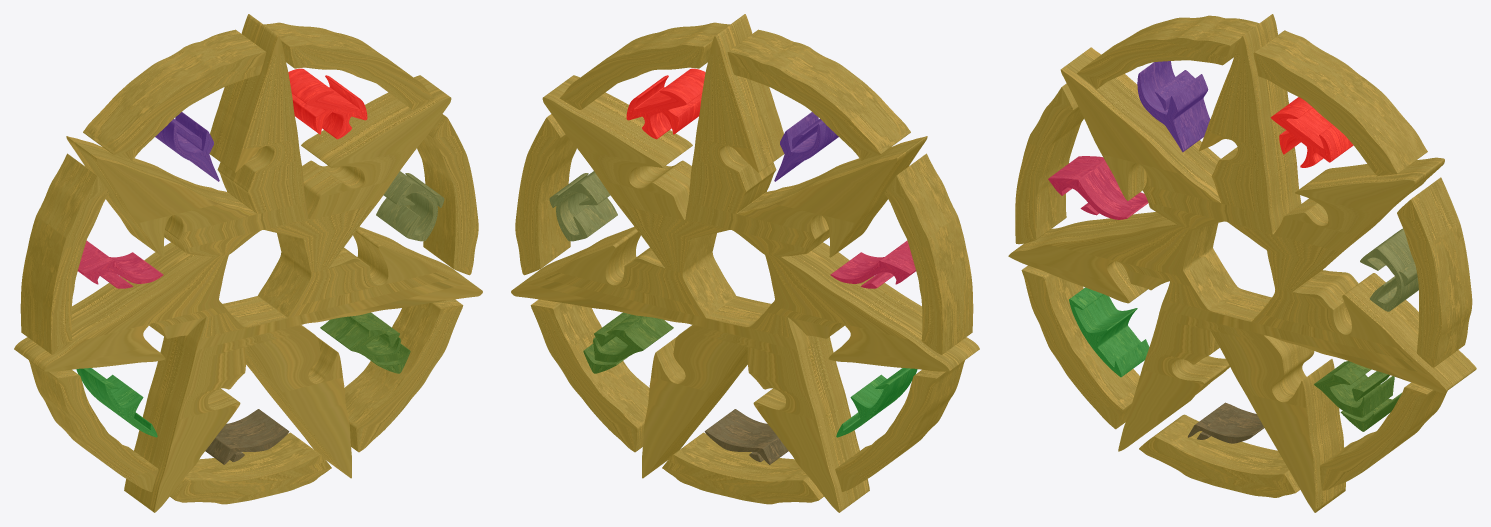
File: swpf_thassilonian_3d_1.glb
The picture shows the model from 3 angles, left to right: view 1: azimuth 30°, elevation 25°; view 2: azimuth 150°, elevation 25°; view 3: azimuth 330°, elevation 25°; orthographic projection.
Parts seen in each view (by area): view 1: Star; view 2: Star; view 3: Star.
Part boxes in pixels (x1,y1,x2,y2): Star: (14, 14, 482, 512); Star: (511, 14, 979, 512); Star: (1008, 14, 1476, 512).
Size of the model in its own units: 182 by 183 by 21.8.
8 materials, 8 textured.
